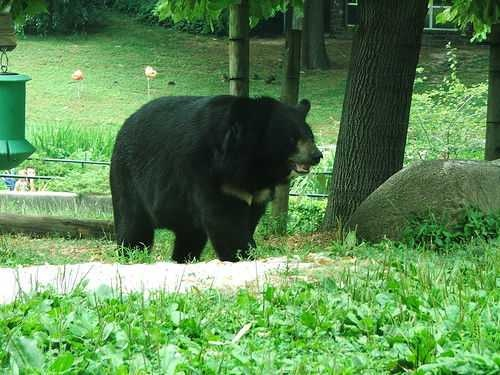bear: (201, 85, 329, 213)
